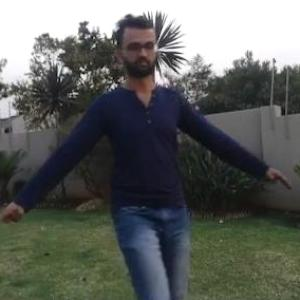land: (73, 75, 225, 261)
